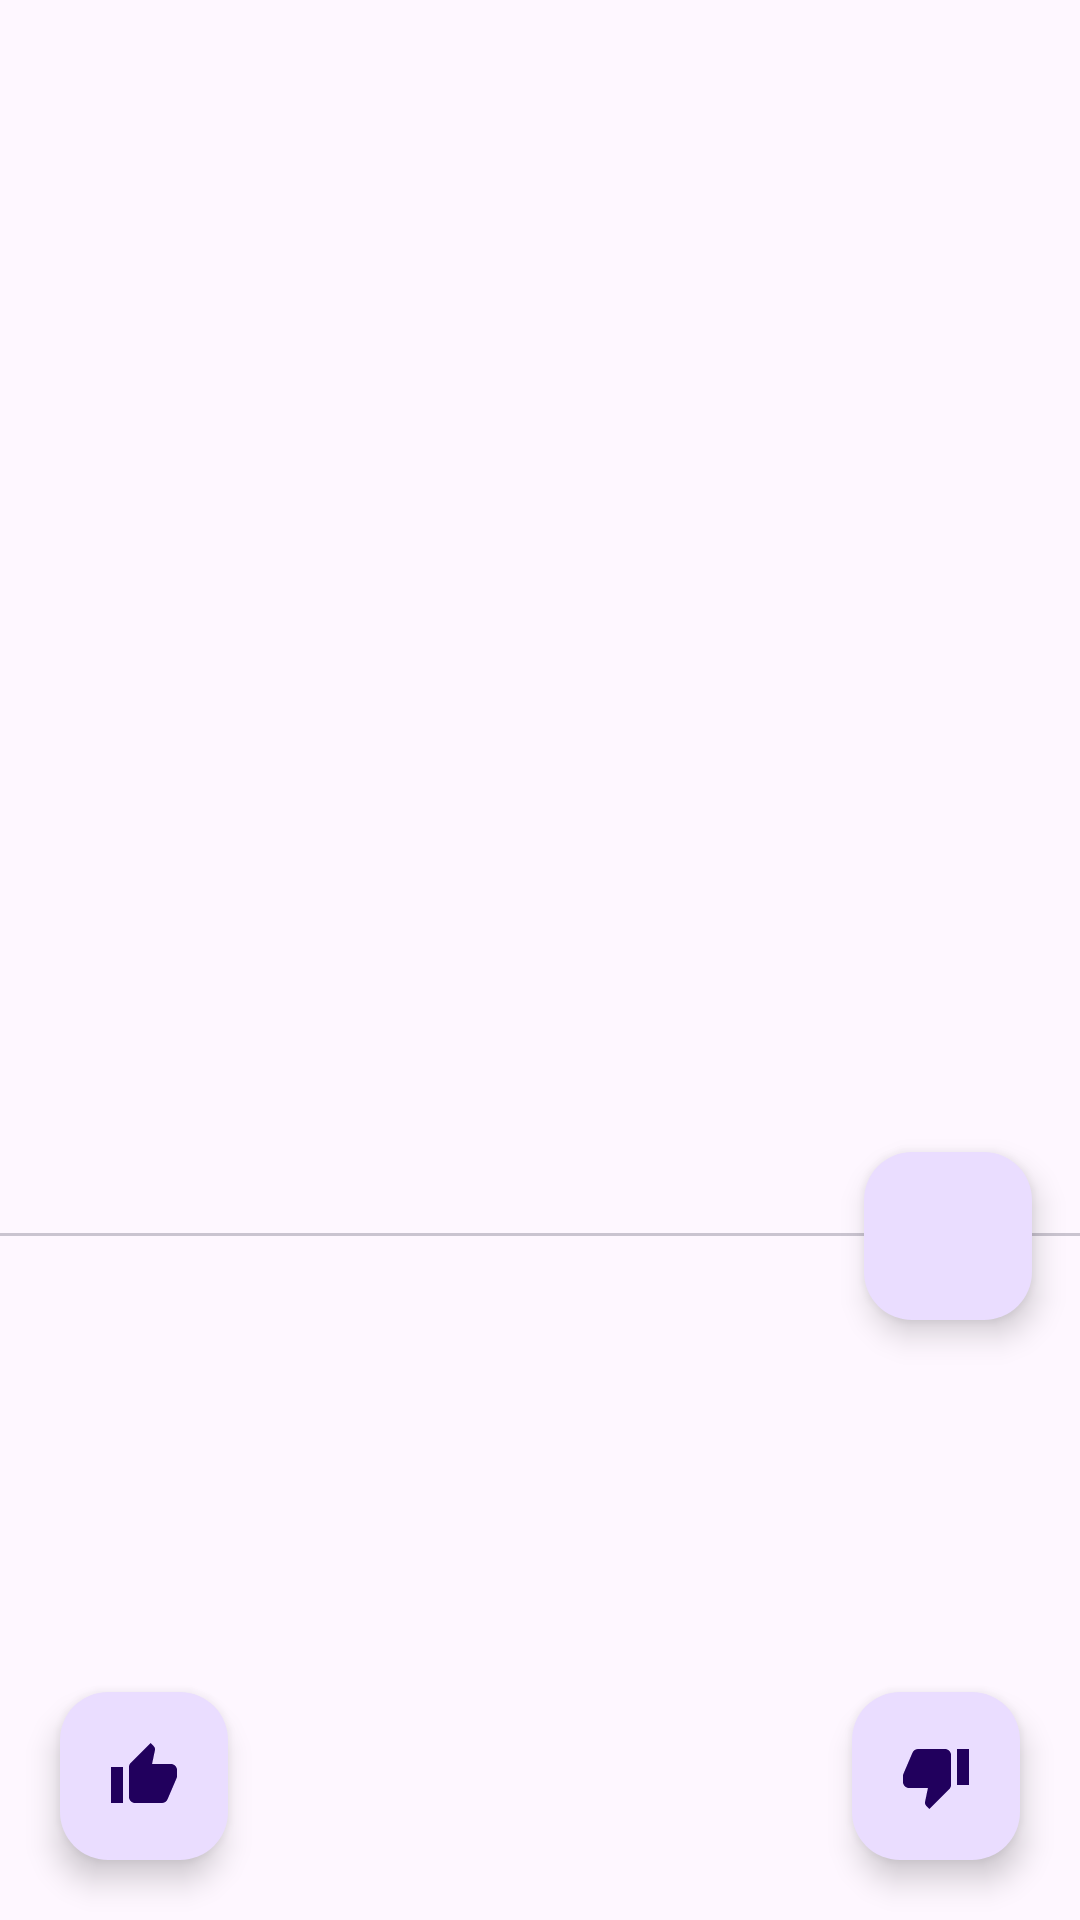

Where to tap for icons on this 1080px x 1920px app screen, as (x=x, y=y):
dislike: (x=936, y=1776)
like: (x=144, y=1776)
